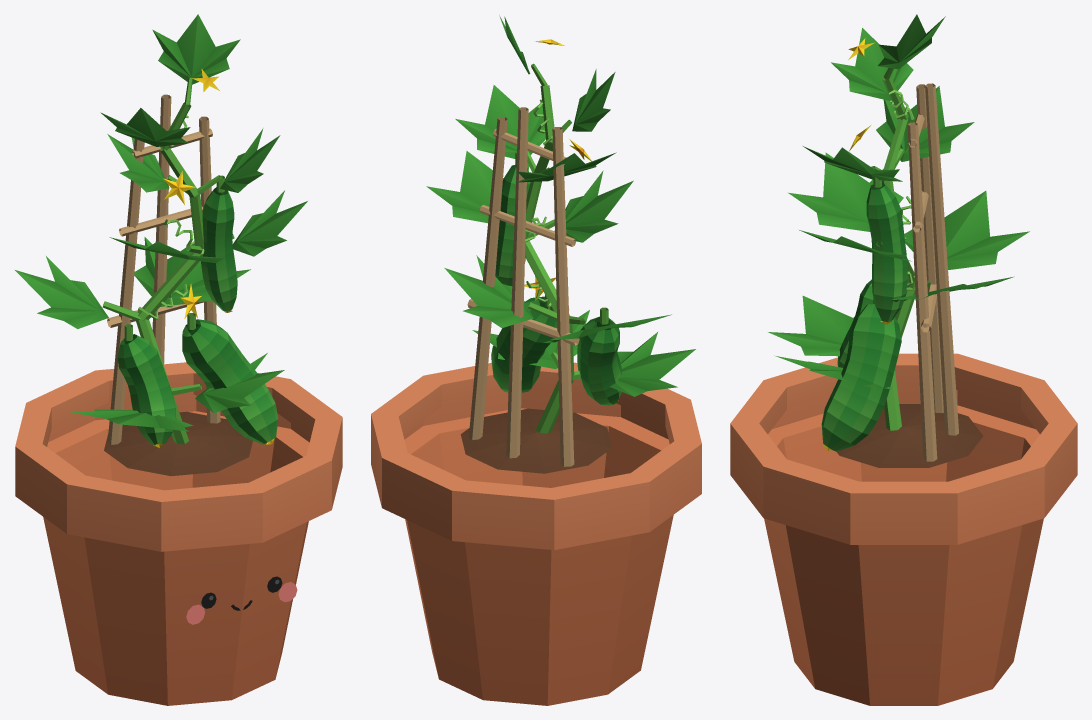
Rendered from cute_cucumber_stage3.glb.
The picture shows the model from 3 angles, left to right: view 1: azimuth 30°, elevation 25°; view 2: azimuth 150°, elevation 25°; view 3: azimuth 270°, elevation 25°; orthographic projection. The views are drawn at different scales.
Visible parts, largest first — view 1: PlantModel; view 2: PlantModel; view 3: PlantModel.
Part boxes in pixels (bbox=[...]): PlantModel: bbox=[15, 14, 342, 705]; PlantModel: bbox=[371, 15, 701, 705]; PlantModel: bbox=[730, 14, 1077, 705].
Size of the model in its own units: 0.3779 by 0.8312 by 0.396.
